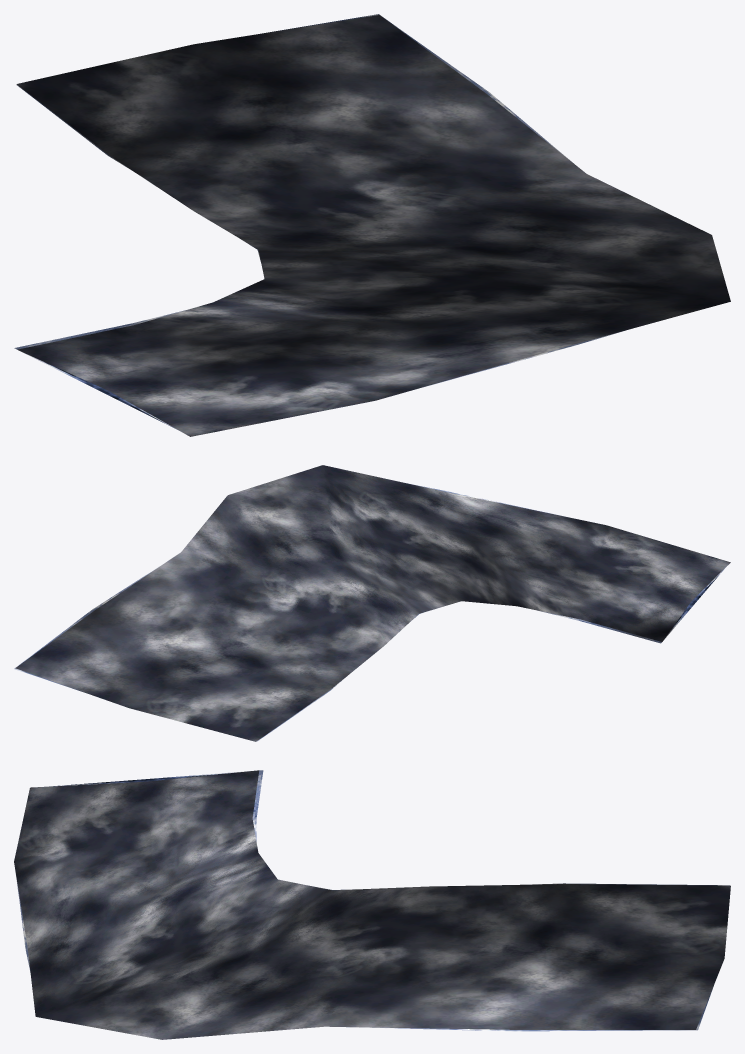
Rendered from LONE_MOUNTAIN_WATERFALLS_MAIN_WATERFALL_BILLOWS03.fbx.
3 renders of one model, top to bottom at view 1: azimuth 30°, elevation 25°; view 2: azimuth 150°, elevation 25°; view 3: azimuth 270°, elevation 25°, orthographic. The views are drawn at different scales.
Visible parts, largest first — view 1: LONE_MOUNTAIN_WATERFALLS_MAIN_WATERFALL_BILLOWS03; view 2: LONE_MOUNTAIN_WATERFALLS_MAIN_WATERFALL_BILLOWS03; view 3: LONE_MOUNTAIN_WATERFALLS_MAIN_WATERFALL_BILLOWS03.
Part boxes in pixels (left/top/right/bottom): LONE_MOUNTAIN_WATERFALLS_MAIN_WATERFALL_BILLOWS03: left=14, top=14, right=730, bottom=436; LONE_MOUNTAIN_WATERFALLS_MAIN_WATERFALL_BILLOWS03: left=14, top=465, right=730, bottom=741; LONE_MOUNTAIN_WATERFALLS_MAIN_WATERFALL_BILLOWS03: left=14, top=770, right=730, bottom=1039.
Bounding box in the file's own units: 78378 × 71.61 × 88034.
Materials: 2 (2 with a texture image).
